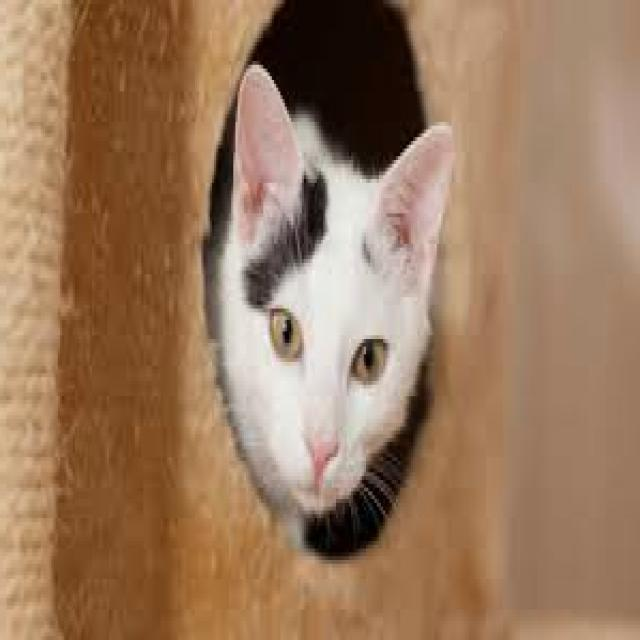cat: (214, 65, 454, 537)
